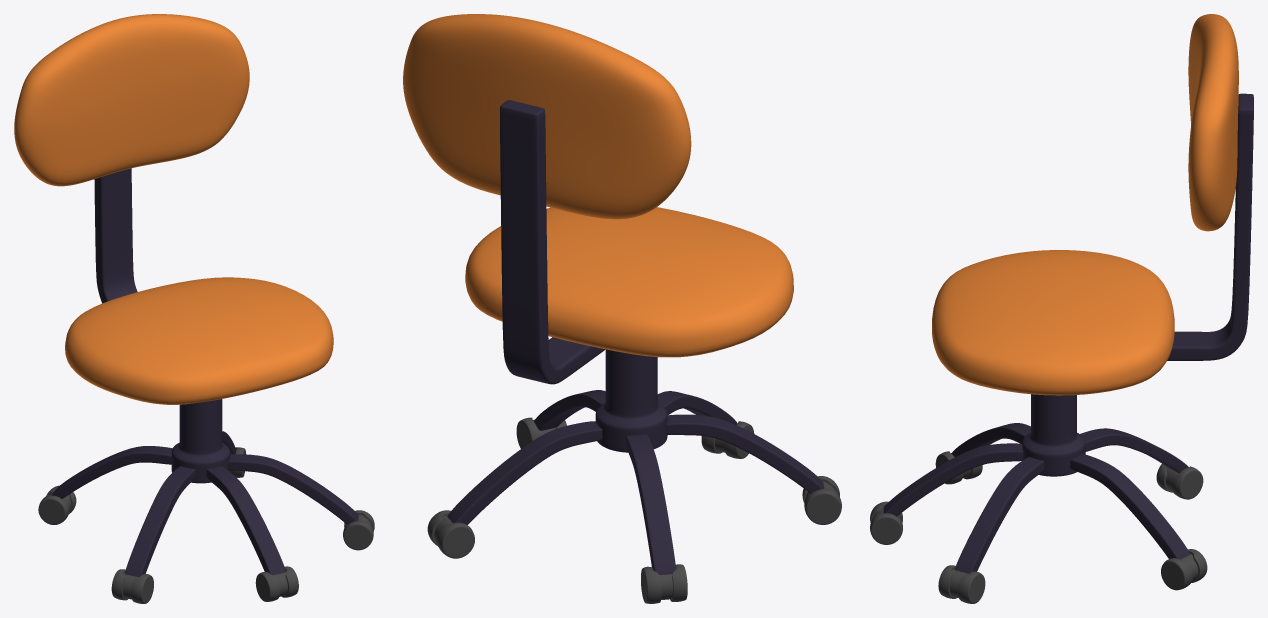
Rendered from Computer Chair.fbx.
The picture shows the model from 3 angles, left to right: view 1: azimuth 30°, elevation 25°; view 2: azimuth 150°, elevation 25°; view 3: azimuth 270°, elevation 25°; orthographic projection. The views are drawn at different scales.
Parts seen in each view (by area): view 1: Chair Wheels geo; view 2: Chair Wheels geo; view 3: Chair Wheels geo.
Boxes of the visible parts, x1=… form: Chair Wheels geo: x1=14, y1=14, x2=374, y2=603; Chair Wheels geo: x1=403, y1=14, x2=841, y2=603; Chair Wheels geo: x1=870, y1=14, x2=1253, y2=603.
Bounding box in the file's own units: 72.66 × 122 × 84.88.
